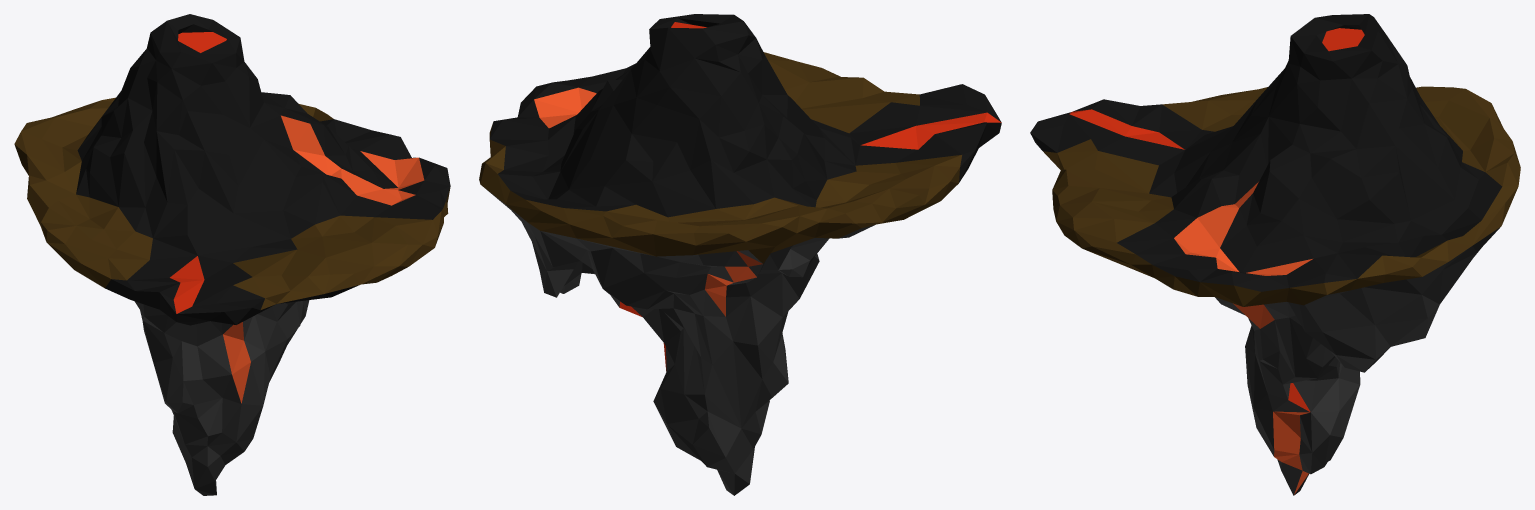
The model's file is AshmoundModel.fbx.
3 views of the same model, side by side, from view 1: azimuth 30°, elevation 25°; view 2: azimuth 150°, elevation 25°; view 3: azimuth 270°, elevation 25° (orthographic). The views are drawn at different scales.
Parts seen in each view (by area): view 1: Island1Decimate; view 2: Island1Decimate; view 3: Island1Decimate.
Part boxes in pixels (left/top/right/bottom): Island1Decimate: left=14, top=14, right=450, bottom=495; Island1Decimate: left=479, top=14, right=1001, bottom=495; Island1Decimate: left=1030, top=14, right=1520, bottom=495.
Bounding box in the file's own units: 415 × 473 × 443.
